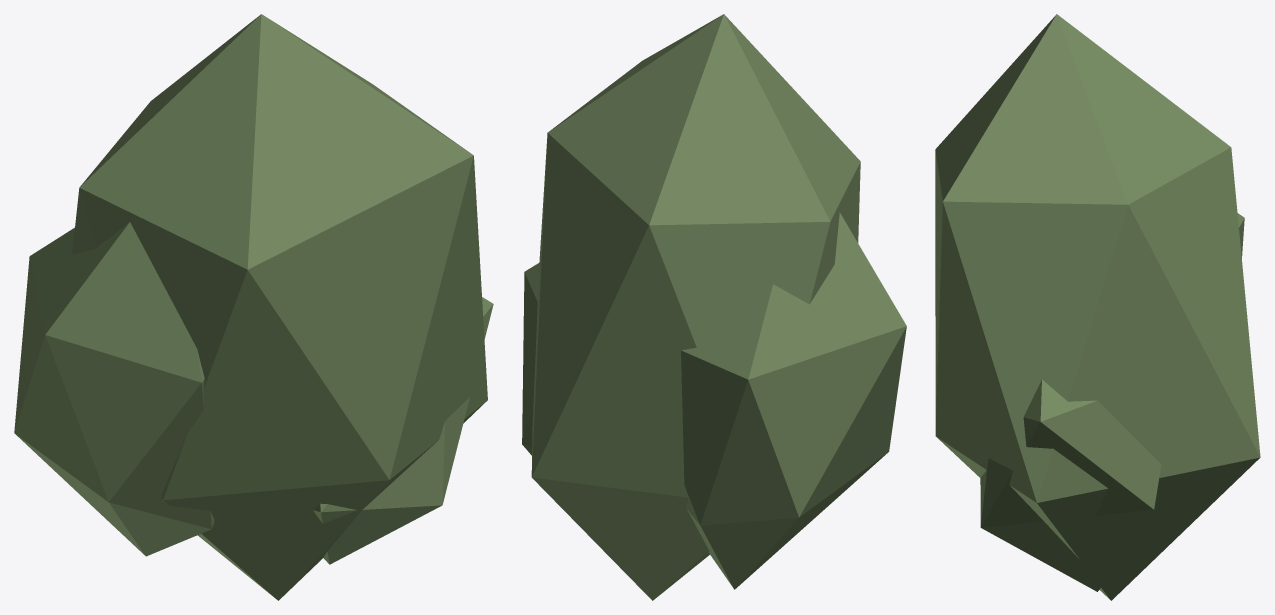
File: bush_3.glb
3 renders of one model, left to right at view 1: azimuth 30°, elevation 25°; view 2: azimuth 150°, elevation 25°; view 3: azimuth 270°, elevation 25°, orthographic. The views are drawn at different scales.
Parts seen in each view (by area): view 1: bush_3.001; view 2: bush_3.001; view 3: bush_3.001.
Boxes of the visible parts, x1,y1,x2,y2 form: bush_3.001: (14,14,493,600); bush_3.001: (522,14,906,600); bush_3.001: (935,14,1260,600).
Bounding box in the file's own units: 1.9 × 2.62 × 1.36.
